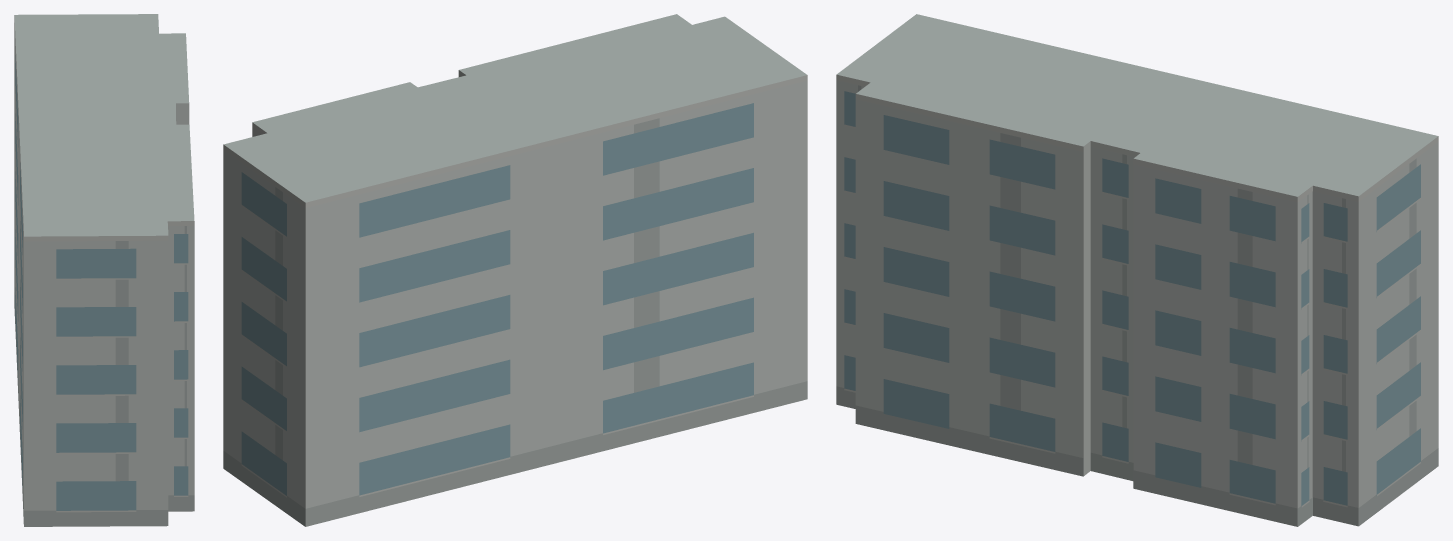
File: survey-upis-32676105.glb
3 views of the same model, side by side, from view 1: azimuth 30°, elevation 25°; view 2: azimuth 150°, elevation 25°; view 3: azimuth 270°, elevation 25° (orthographic). The views are drawn at different scales.
Parts seen in each view (by area): view 1: survey-upis-32676105.tmp; view 2: survey-upis-32676105.tmp; view 3: survey-upis-32676105.tmp.
Part boxes in pixels (x1,y1,x2,y2): survey-upis-32676105.tmp: (14,14,194,526); survey-upis-32676105.tmp: (223,14,807,526); survey-upis-32676105.tmp: (836,14,1438,526).
Size of the model in its own units: 17 by 14.3 by 23.65.
